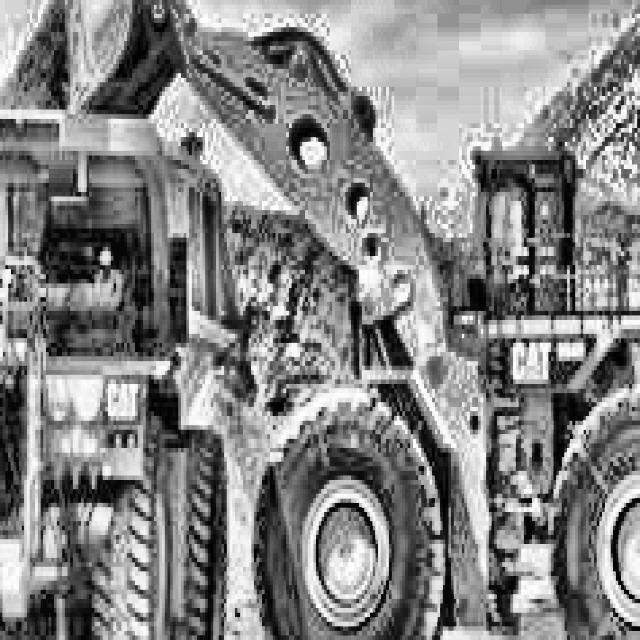buldozerpayloadergrader: (40, 0, 640, 640)
dump_truck: (0, 82, 243, 640)
